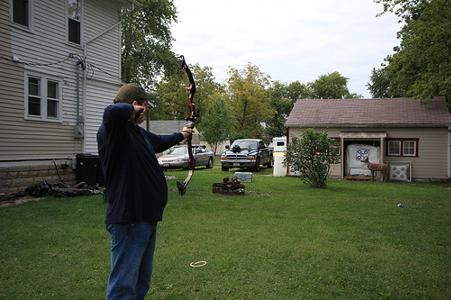person: (96, 83, 195, 300)
